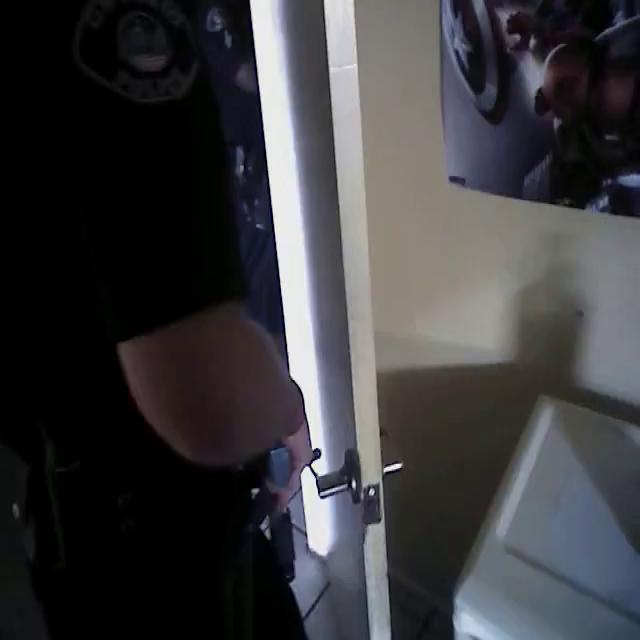gun: (233, 433, 349, 603)
